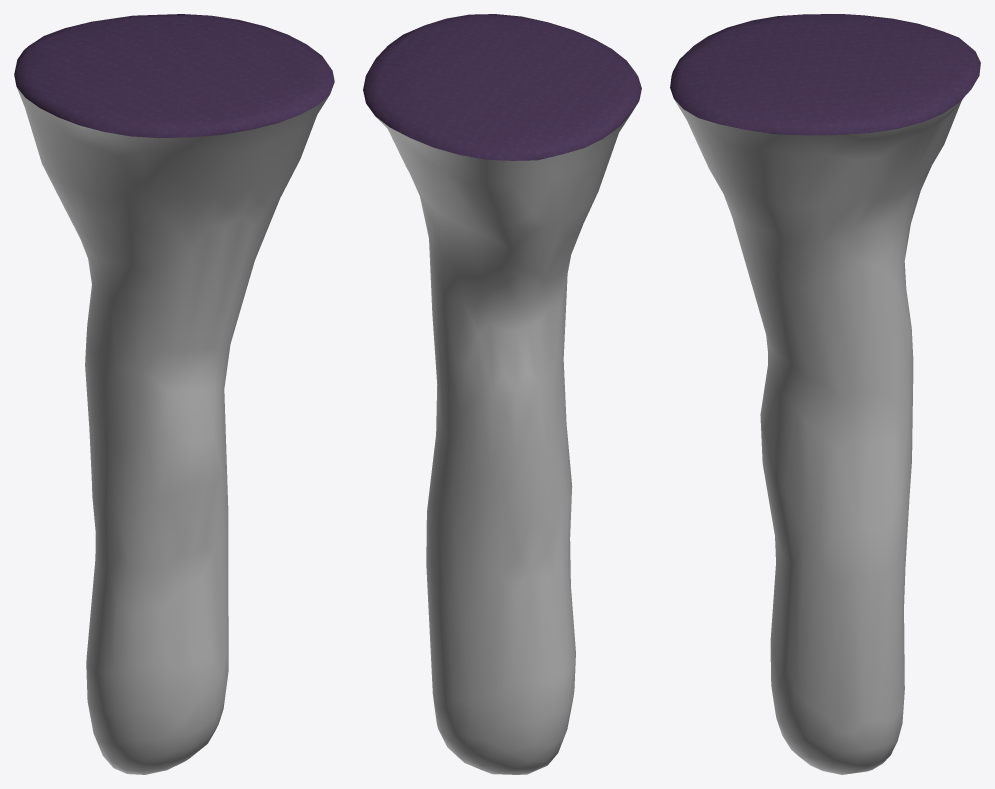
Rendered from StonePillar1.fbx.
3 views of the same model, side by side, from view 1: azimuth 30°, elevation 25°; view 2: azimuth 150°, elevation 25°; view 3: azimuth 270°, elevation 25° (orthographic). The views are drawn at different scales.
Visible parts, largest first — view 1: StonePillar1; view 2: StonePillar1; view 3: StonePillar1.
Part boxes in pixels (x1=…): StonePillar1: x1=14, y1=14, x2=334, y2=774; StonePillar1: x1=363, y1=14, x2=641, y2=774; StonePillar1: x1=670, y1=14, x2=980, y2=774.
Bounding box in the file's own units: 3091 × 8175 × 3231.
